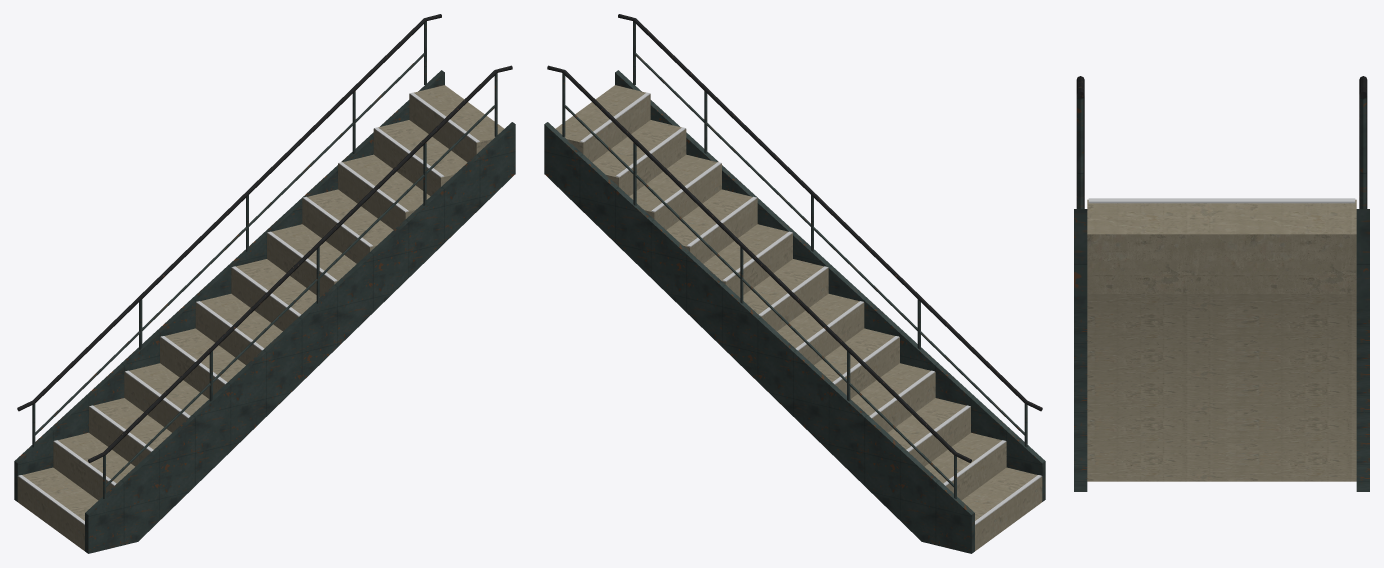
Rendered from station-stairs.glb.
3 views of the same model, side by side, from view 1: azimuth 30°, elevation 25°; view 2: azimuth 150°, elevation 25°; view 3: azimuth 270°, elevation 25° (orthographic). The views are drawn at different scales.
Parts seen in each view (by area): view 1: station_stairs; view 2: station_stairs; view 3: station_stairs.
Boxes of the visible parts, left/top/right/bottom form: station_stairs: left=14, top=14, right=515, bottom=553; station_stairs: left=544, top=14, right=1045, bottom=553; station_stairs: left=1074, top=76, right=1369, bottom=491.
Bounding box in the file's own units: 6 × 5.15 × 1.8.
4 materials, 3 textured.
